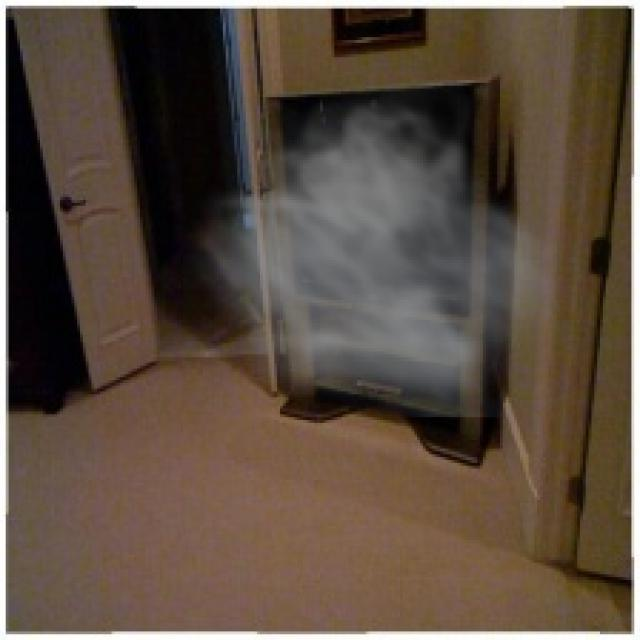Smoke: (179, 62, 572, 418)
